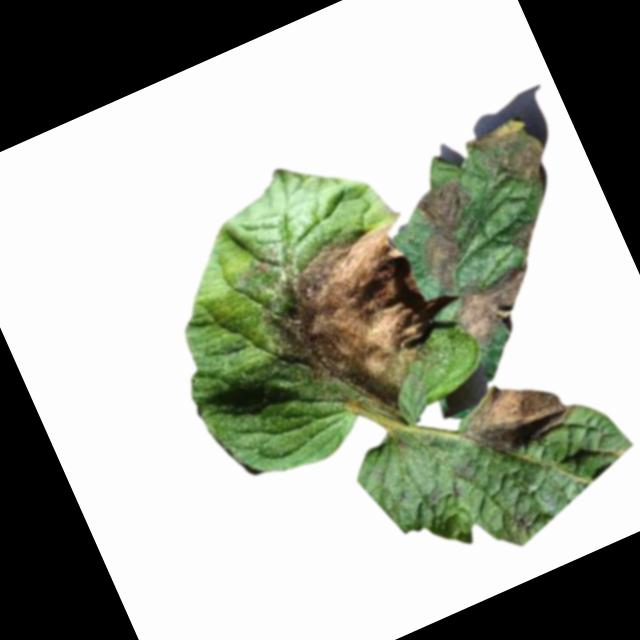Late_blight: (245, 214, 467, 447), (447, 360, 581, 472), (398, 174, 502, 297), (461, 106, 563, 209), (441, 262, 543, 356), (505, 214, 549, 260)
